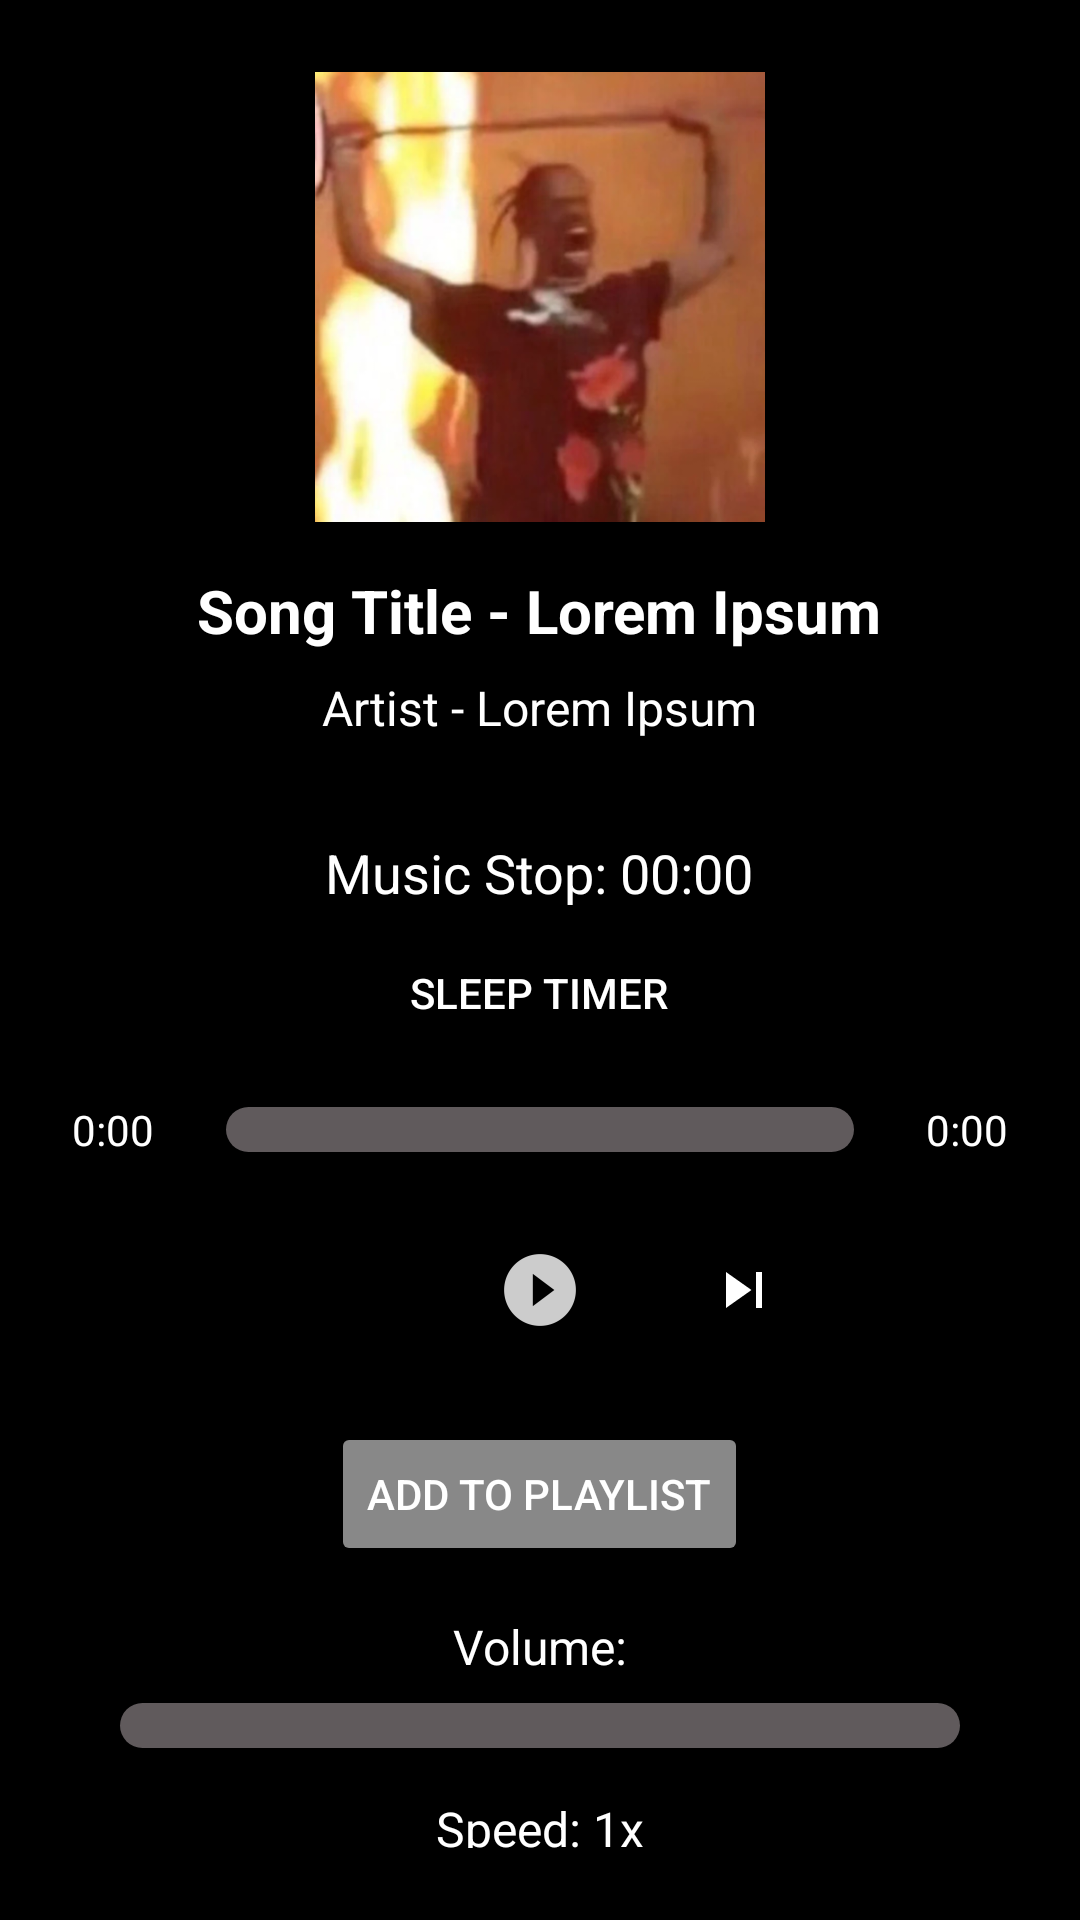

Where to tap for icons on this 1080w x 1920h app screen, as point (x, y):
Next: point (744, 1290)
Play/Pause: point (540, 1290)
